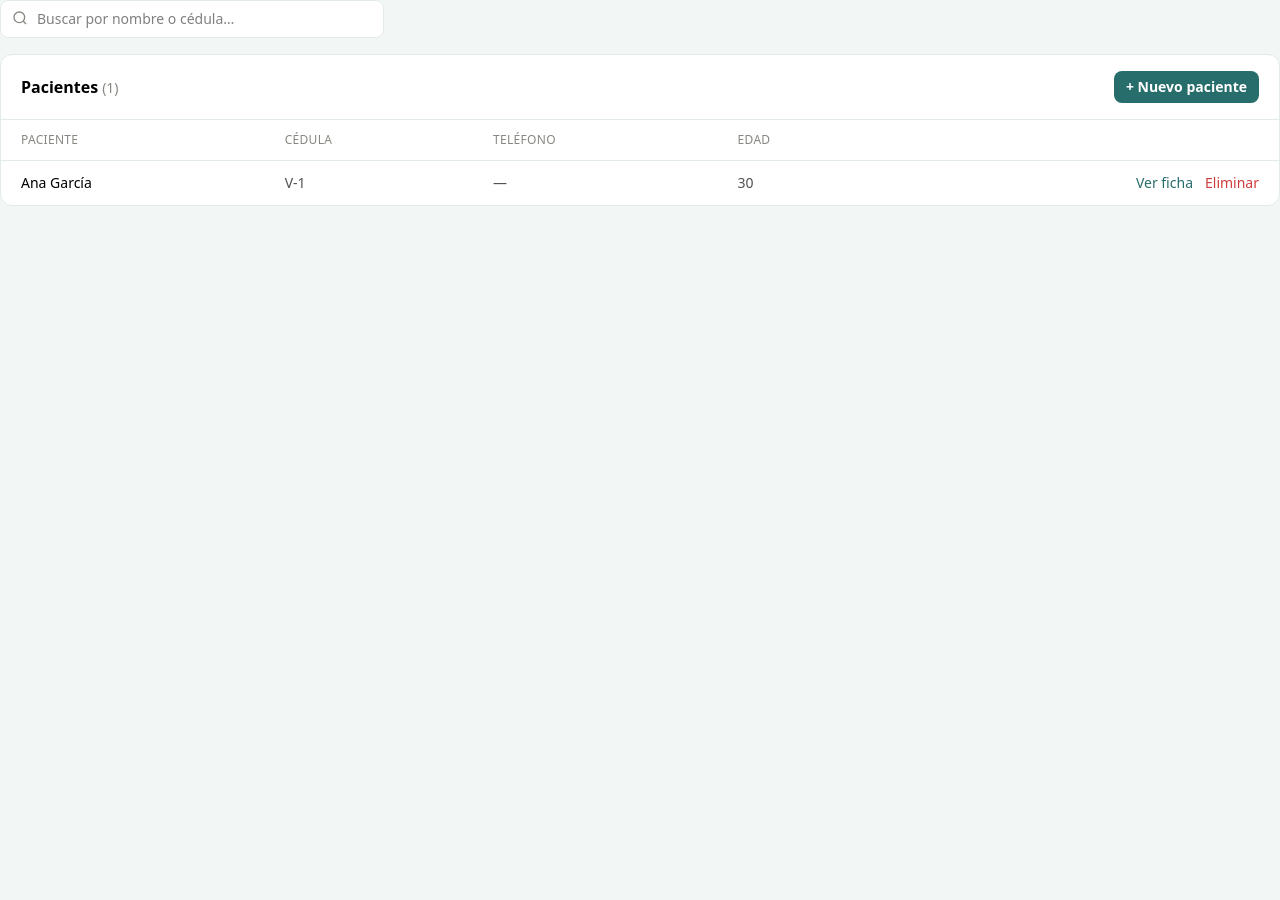
Test: PatientsPage — erasing a patient › keeps the confirm button disabled until the name is typed
Click the button "Eliminar" at [1232, 183], box [1205,173,1259,193]
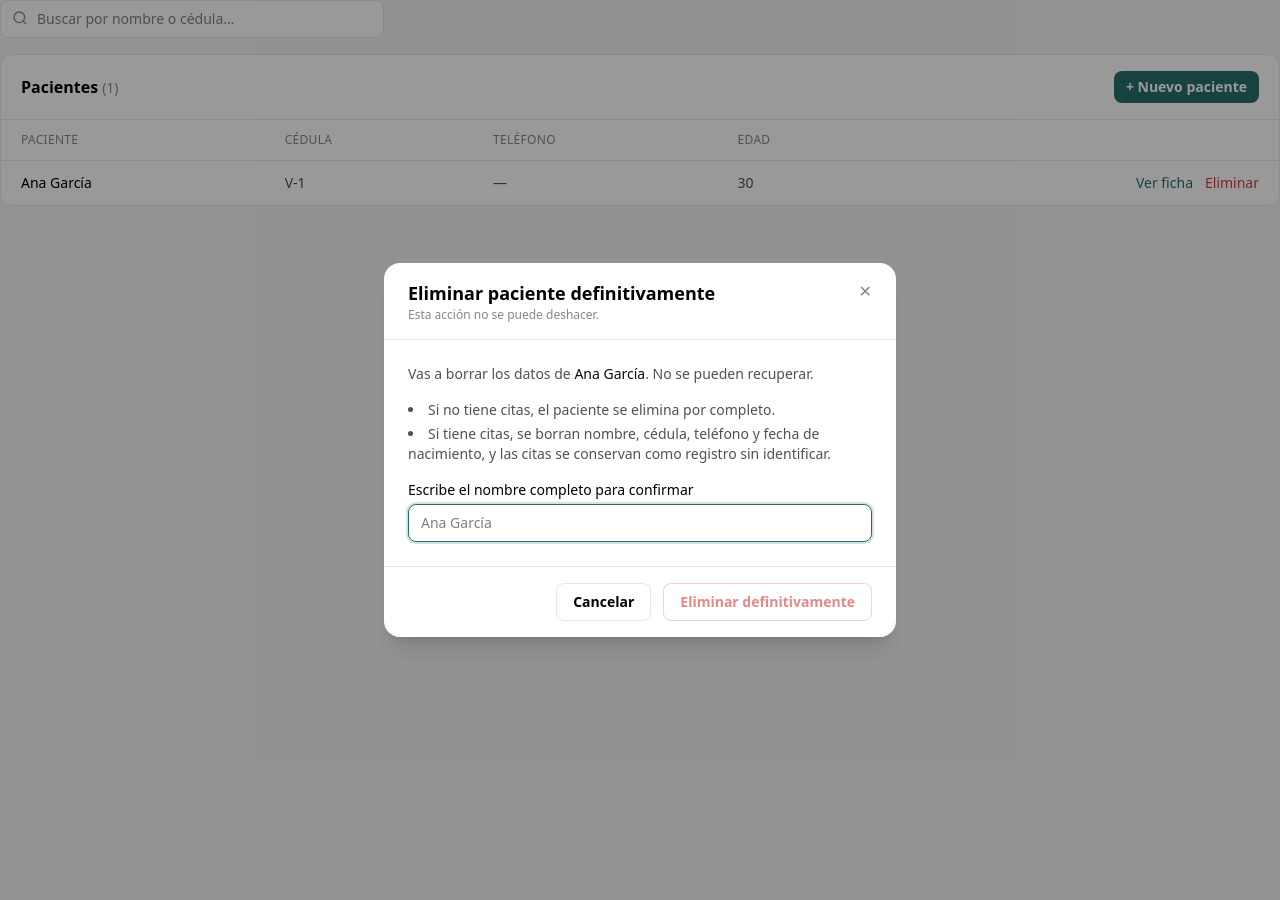
Now the button "Eliminar definitivamente" is disabled, box [663,583,872,621]
Type "Ana" into the field labelled "Escribe el nombre completo para confirmar" at [640, 523], box [408,504,872,542]
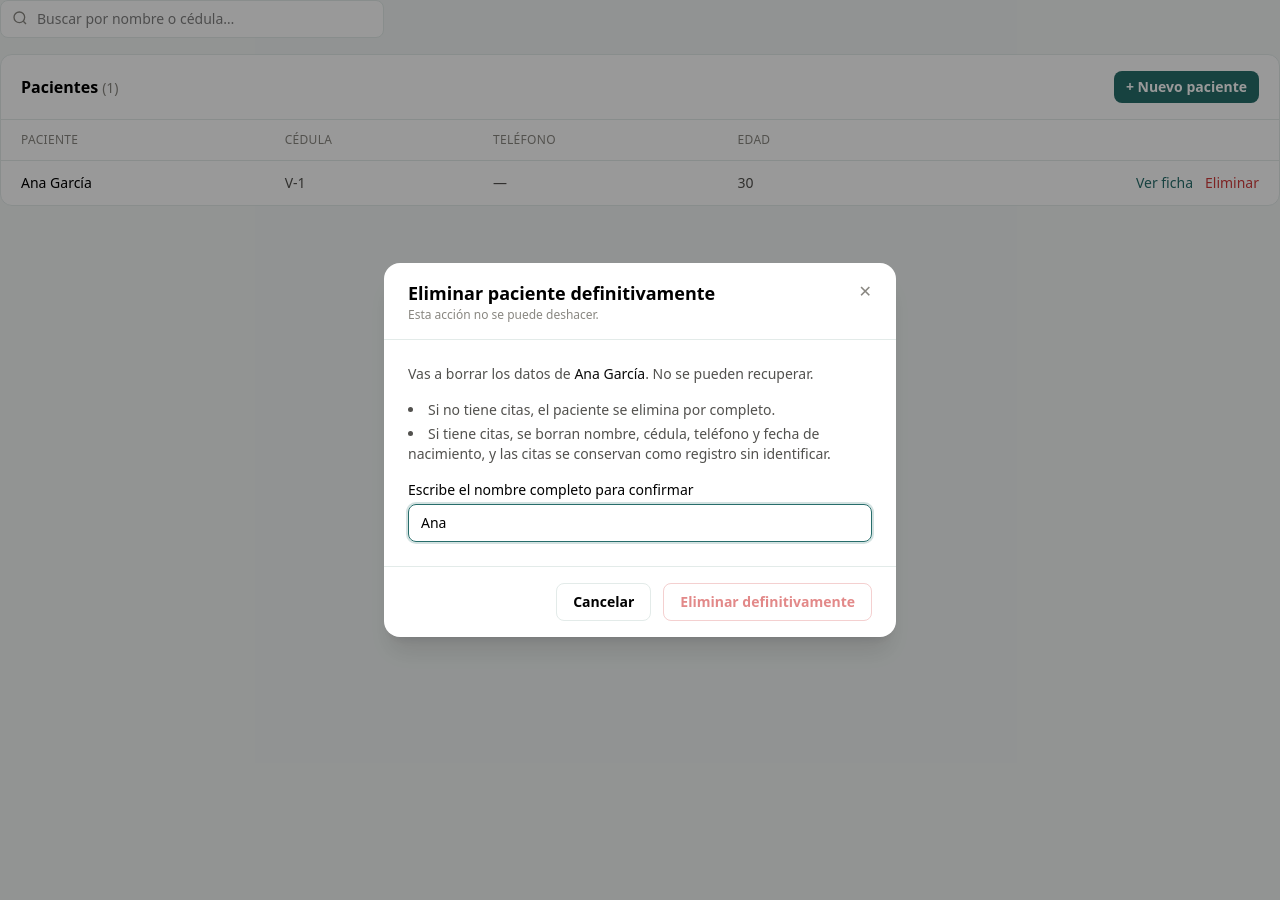
Now the button "Eliminar definitivamente" is disabled, box [663,583,872,621]
Replace the text in the field labelled "Escribe el nombre completo para confirmar" with "Ana García" at [640, 523], box [408,504,872,542]
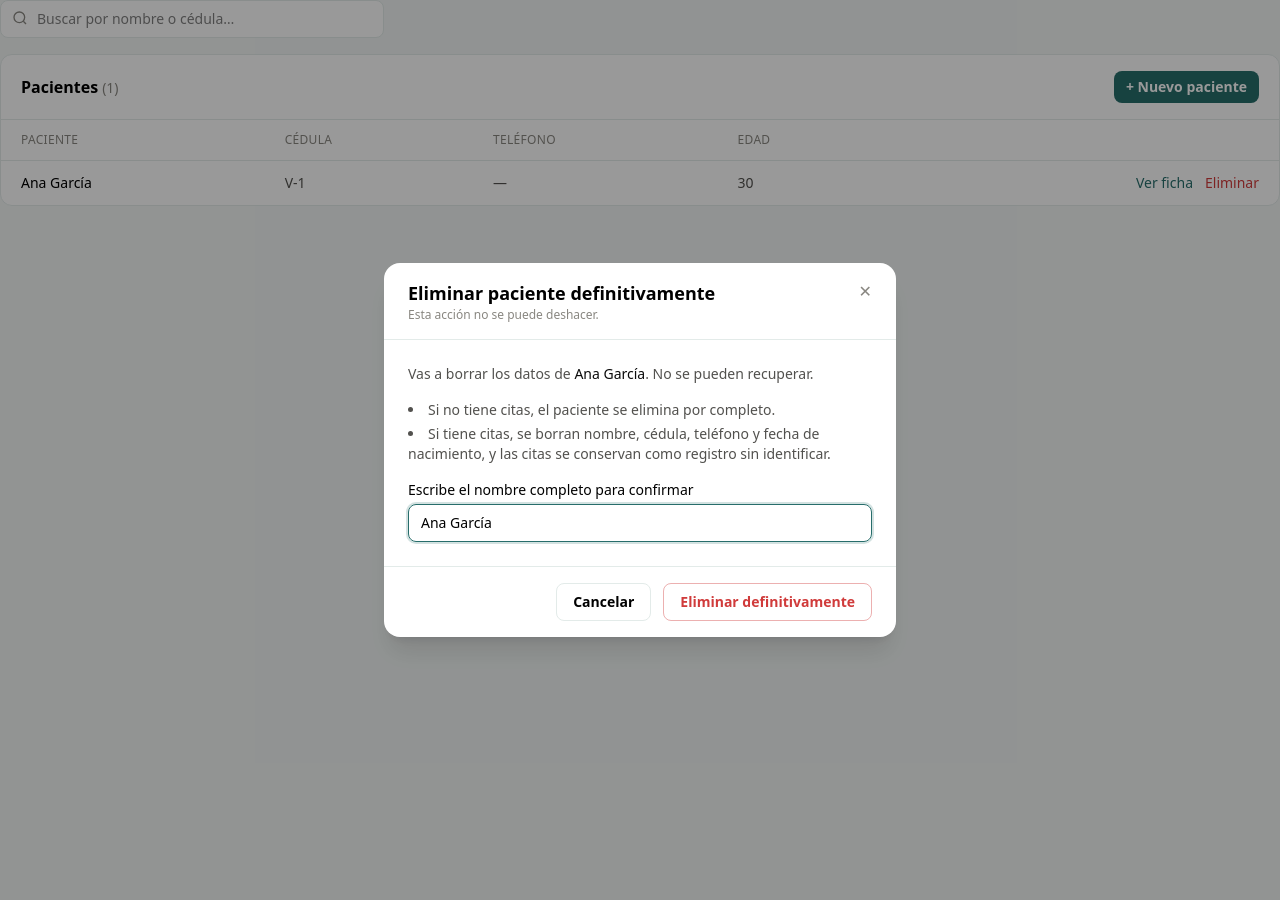
Now the button "Eliminar definitivamente" is enabled, box [663,583,872,621]
